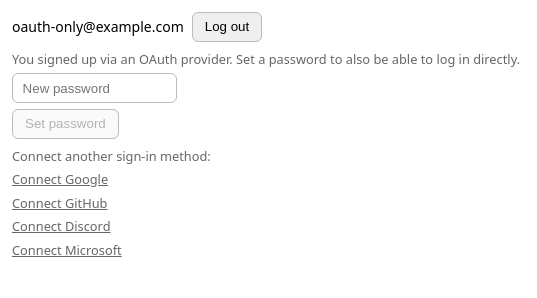
Test: AuthPanel › Set a password (OAuth-only accounts) › shows an error when setting the password fails
Type "hunter22222" into the password field with placeholder "New password" at (95, 88), box left=12, top=73, right=177, bottom=103
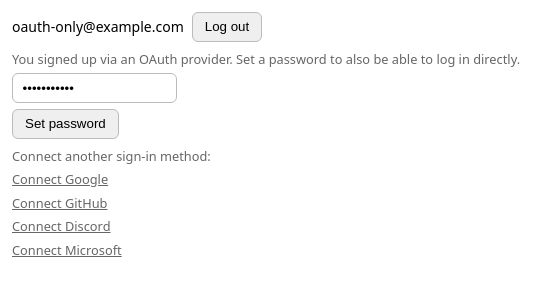
Click the button "Set password" at (65, 124), box left=12, top=109, right=119, bottom=139
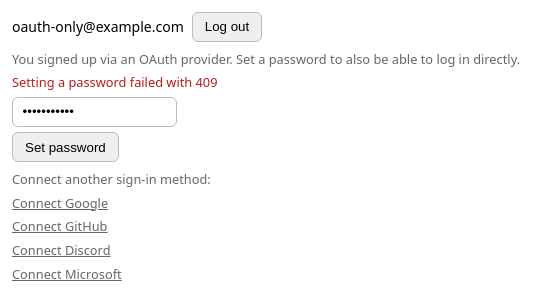
Expected: the text "Setting a password failed with 409" is shown, left=12, top=73, right=218, bottom=91
